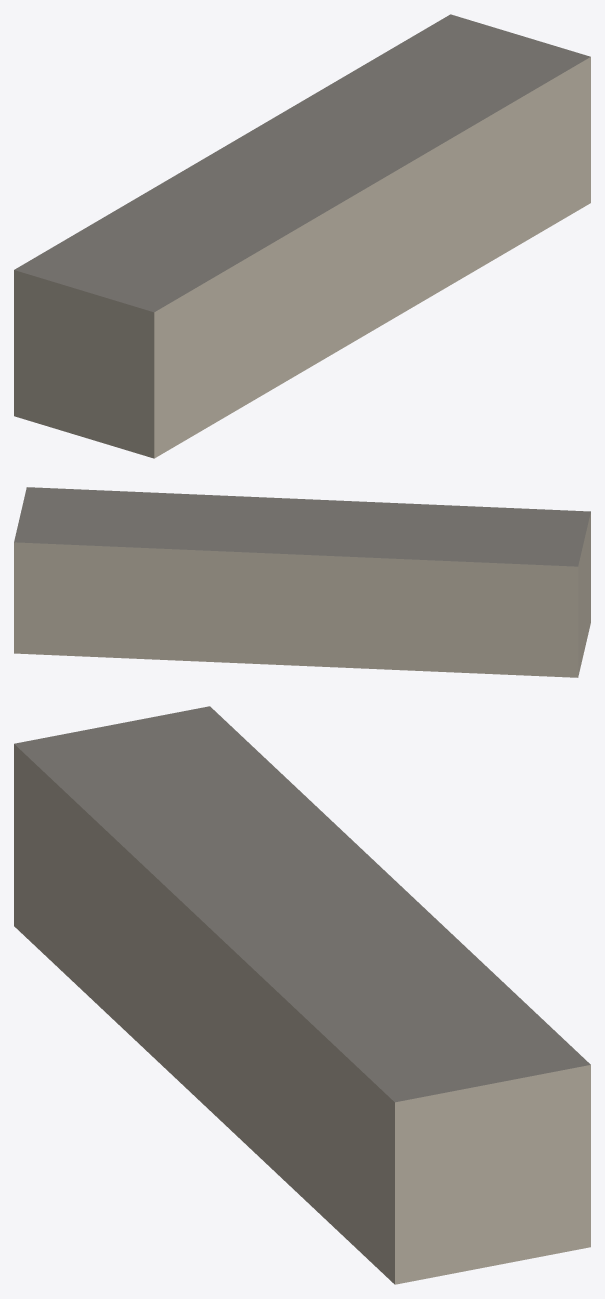
3 renders of one model, top to bottom at view 1: azimuth 30°, elevation 25°; view 2: azimuth 150°, elevation 25°; view 3: azimuth 270°, elevation 25°, orthographic. The views are drawn at different scales.
Visible parts, largest first — view 1: HP-w859424155; view 2: HP-w859424155; view 3: HP-w859424155.
Part boxes in pixels (x1,y1,x2,y2): HP-w859424155: (14,14,590,458); HP-w859424155: (14,487,590,677); HP-w859424155: (14,706,590,1284).
Bounding box in the file's own units: 83.86 × 18 × 51.61.
